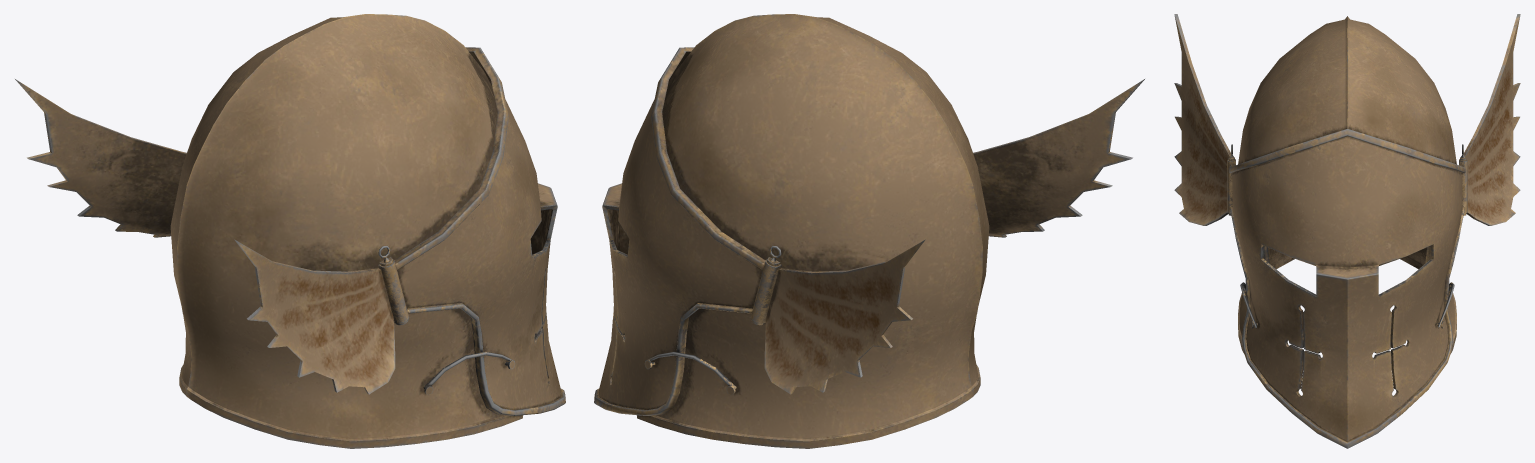
File: helmet.glb
3 renders of one model, left to right at view 1: azimuth 30°, elevation 25°; view 2: azimuth 150°, elevation 25°; view 3: azimuth 270°, elevation 25°, orthographic. The views are drawn at different scales.
Visible parts, largest first — view 1: polySurface62; view 2: polySurface62; view 3: polySurface62.
Boxes of the visible parts, x1=… form: polySurface62: x1=15, y1=14, x2=565, y2=448; polySurface62: x1=594, y1=14, x2=1144, y2=448; polySurface62: x1=1174, y1=14, x2=1520, y2=448.
Size of the model in its own units: 38.08 by 35.74 by 33.27.
Materials: 1 (1 with a texture image).
